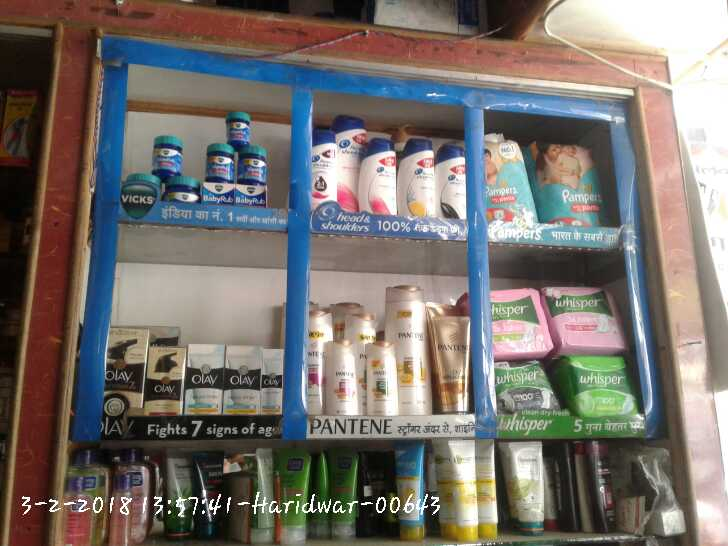vicks: (124, 110, 270, 204)
